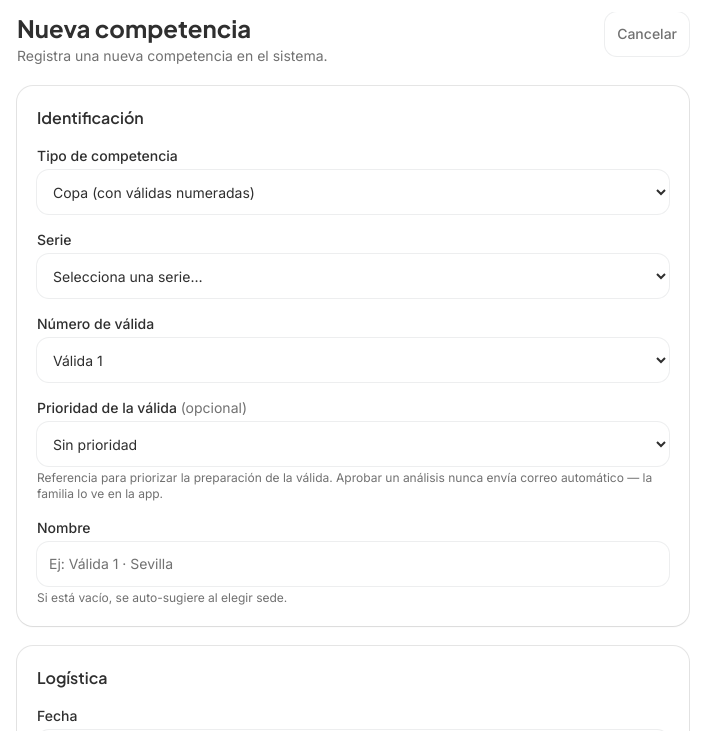
Test: CompetitionFormPage hotfix multicopa — prioridad de la válida › tipo=Campeonato → el select de prioridad no existe; muestra 'CD' de solo lectura
The width and height of the screenshot is (707, 731).
Select "Campeonato (evento único anual)" in the dropdown labelled "Tipo de competencia" at {"x": 353, "y": 192}, box [37, 170, 669, 214]
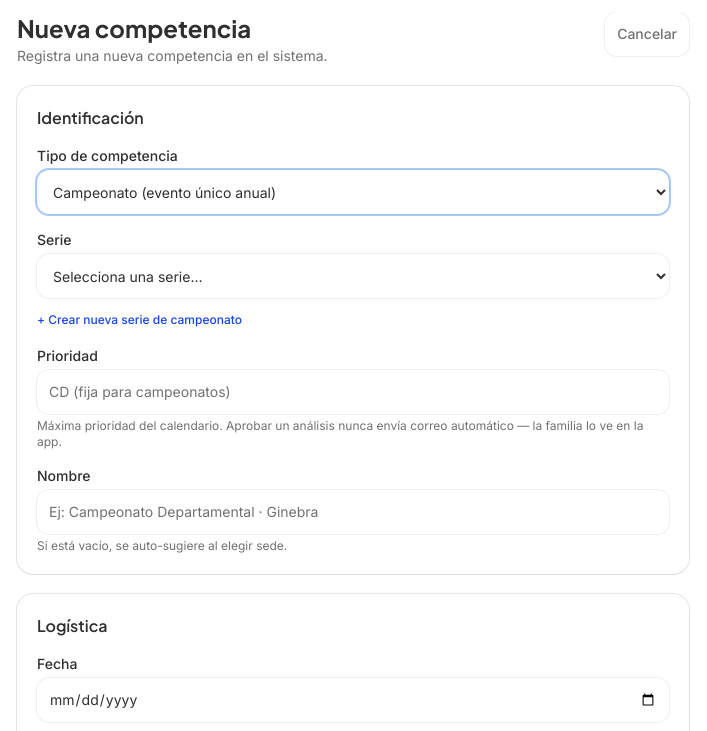
Check: the label labelled "Prioridad de la válida" is gone
Check: the text "CD (fija para campeonatos)" is shown, box [37, 370, 669, 414]
